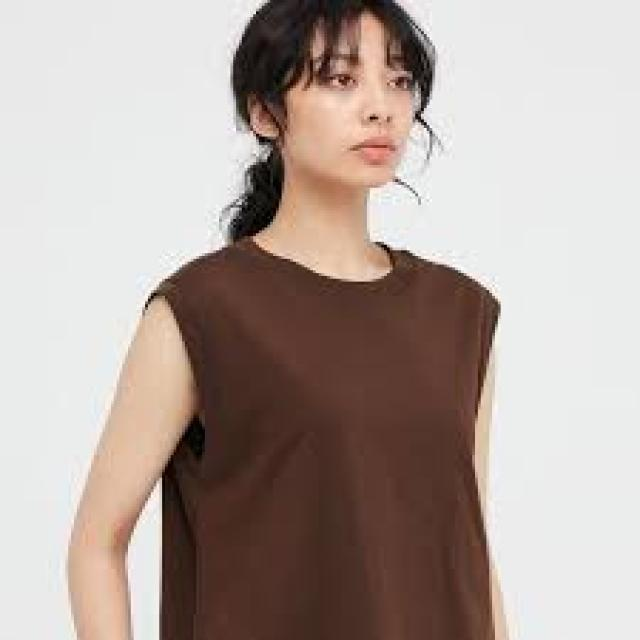no_vest: (142, 232, 503, 640)
